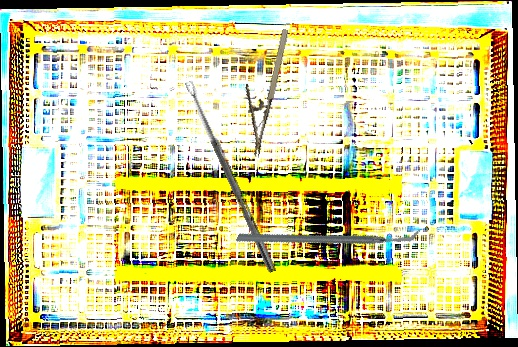Chopper: (235, 162, 421, 309)
Needle Holder: (228, 23, 293, 158)
Surgical Spoon: (184, 79, 278, 274)
